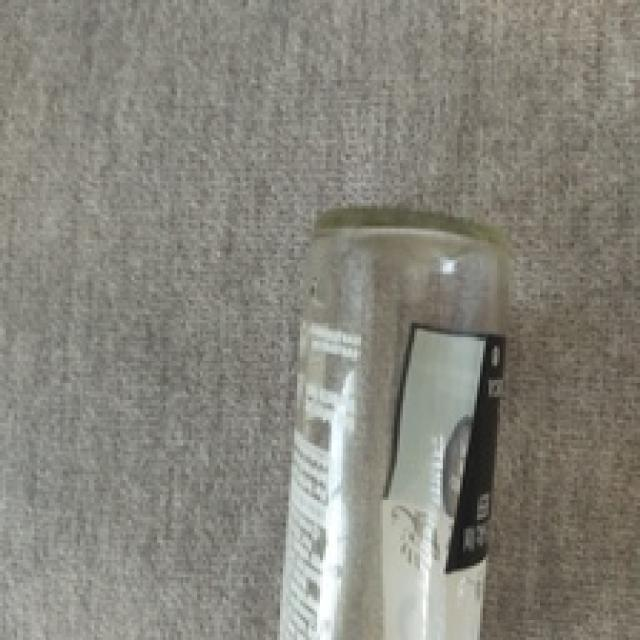Glass: (278, 210, 502, 640)
